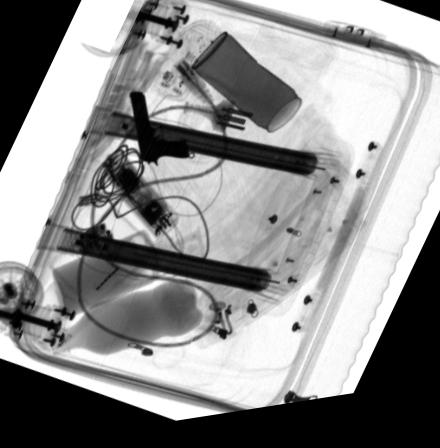Gun: (129, 96, 188, 167)
